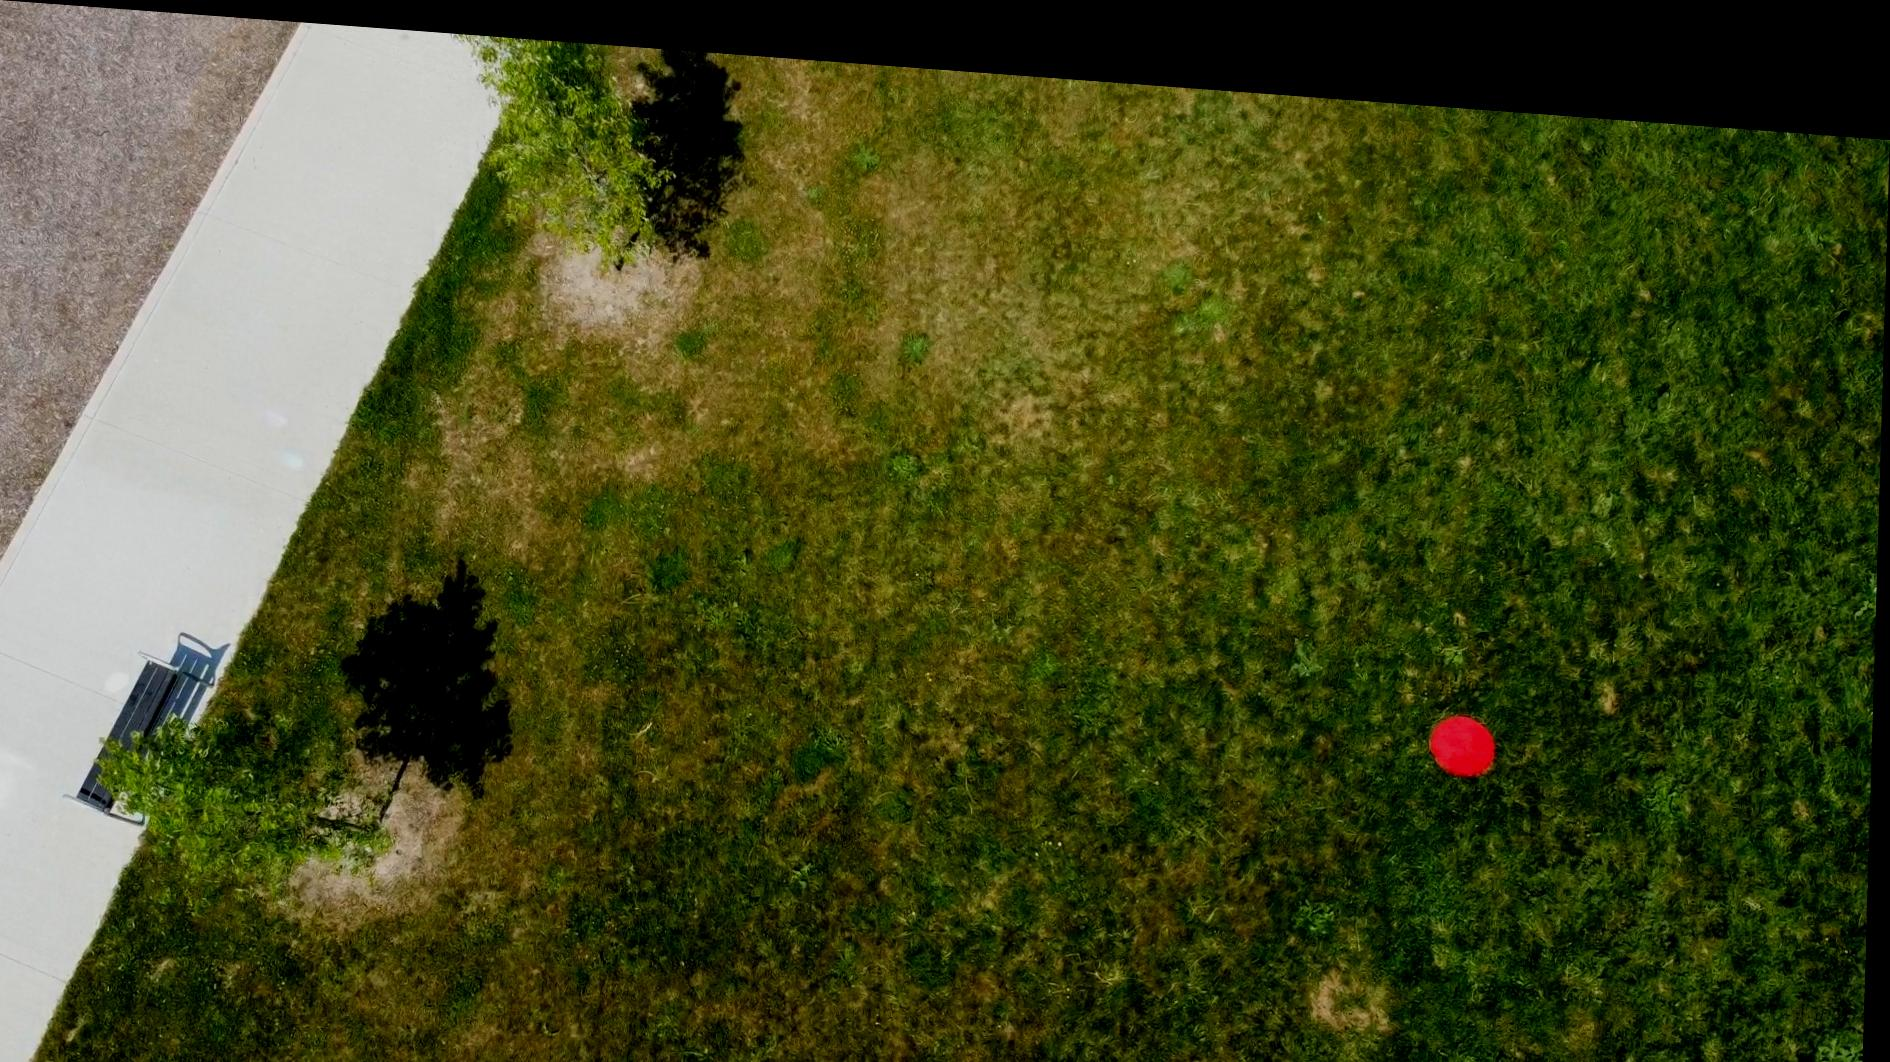Red: (1429, 685, 1503, 759)
